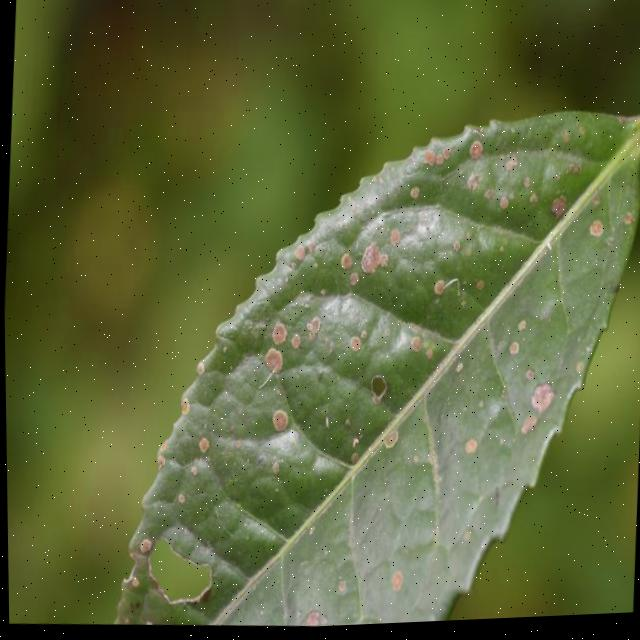Tea algae leaf spot: (184, 133, 591, 579)
